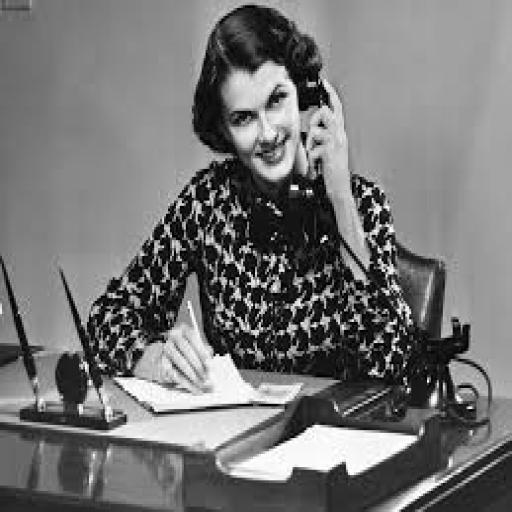calling: (83, 0, 425, 396)
